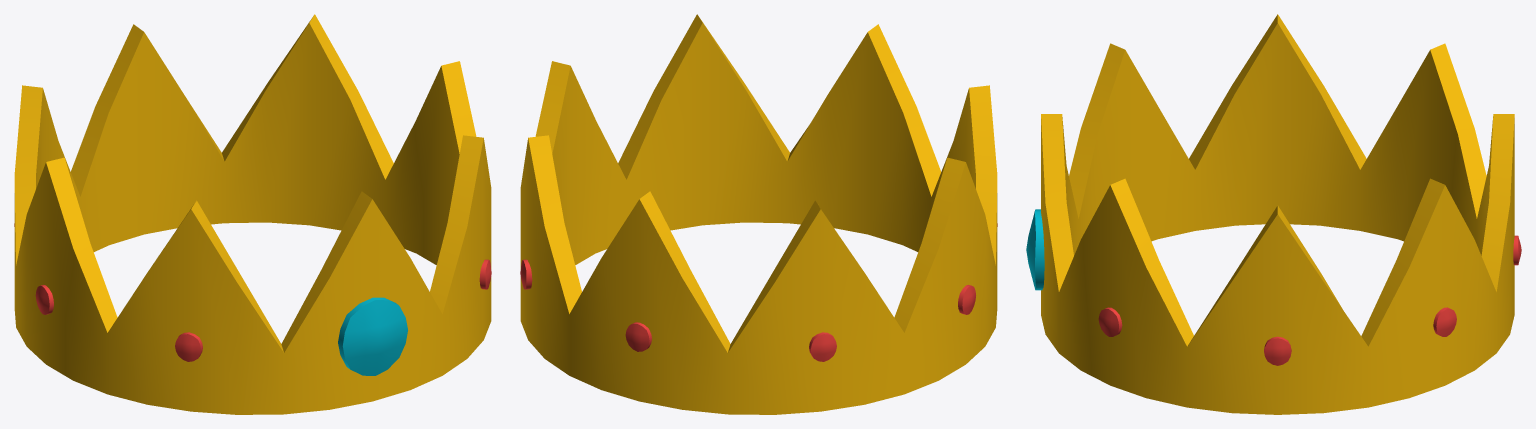
Rendered from crown.glb.
3 views of the same model, side by side, from view 1: azimuth 30°, elevation 25°; view 2: azimuth 150°, elevation 25°; view 3: azimuth 270°, elevation 25° (orthographic).
Parts seen in each view (by area): view 1: Circle.1810; view 2: Circle.1810; view 3: Circle.1810.
Boxes of the visible parts, bbox=[...] form: Circle.1810: bbox=[14, 14, 491, 414]; Circle.1810: bbox=[520, 14, 997, 414]; Circle.1810: bbox=[1026, 14, 1521, 414].
Size of the model in its own units: 2.05 by 0.9343 by 2.09.
1 material, 1 textured.
